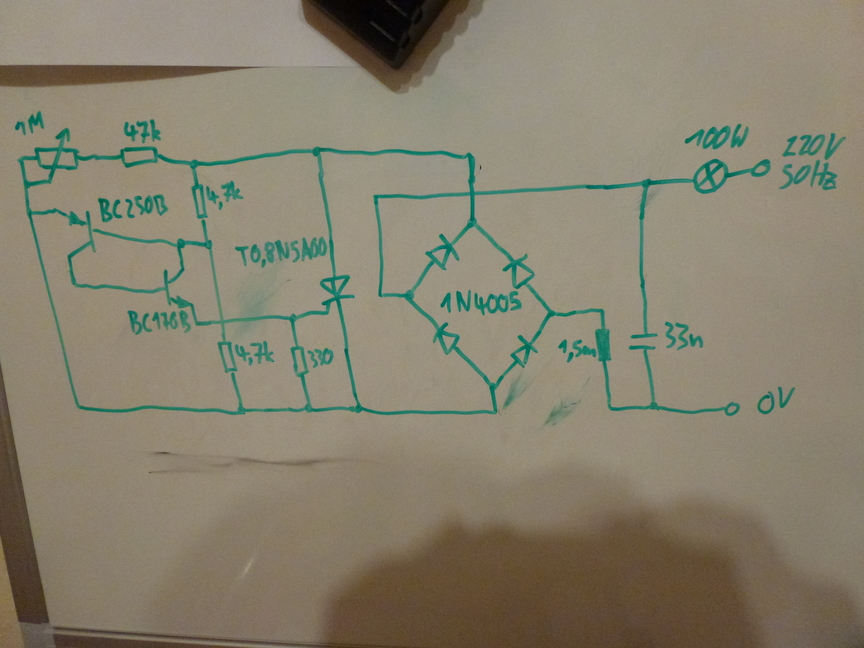capacitor.unpolarized: (625, 325, 660, 359)
crossover: (461, 186, 483, 202), (214, 315, 234, 329)
diode: (497, 250, 537, 290), (423, 232, 462, 273), (429, 318, 464, 358), (506, 333, 540, 370)
inductor: (592, 323, 616, 367)
junction: (483, 378, 503, 395), (462, 214, 481, 231), (348, 401, 368, 417), (401, 287, 418, 304), (540, 306, 559, 321), (310, 143, 326, 160), (637, 175, 653, 192), (645, 398, 661, 415), (299, 401, 317, 416), (368, 189, 385, 204), (171, 236, 189, 250), (233, 403, 251, 417), (199, 238, 218, 250), (70, 400, 86, 414), (463, 149, 478, 163), (285, 311, 300, 325), (186, 157, 201, 171), (67, 277, 82, 291), (488, 404, 501, 419), (595, 304, 609, 317), (373, 288, 386, 300), (20, 178, 32, 191), (604, 401, 616, 414), (14, 154, 27, 165), (23, 208, 37, 218), (192, 316, 202, 330)
lamp: (688, 156, 734, 197)
resistor: (115, 143, 166, 172), (214, 334, 242, 378), (188, 180, 211, 224), (287, 342, 310, 382)
resistor.adjustable: (33, 126, 82, 187)
terminal: (748, 157, 773, 180), (721, 399, 743, 419)
text: (233, 234, 330, 268), (436, 287, 523, 318), (95, 191, 169, 223), (777, 159, 839, 193), (681, 122, 751, 152), (782, 130, 847, 161), (125, 307, 193, 336), (661, 319, 710, 354), (755, 383, 800, 416), (233, 340, 280, 368), (556, 336, 598, 366), (206, 179, 244, 211), (120, 117, 163, 144), (11, 110, 48, 136), (307, 345, 339, 371)
thyristor: (316, 271, 358, 318)
transistor: (50, 205, 104, 260), (159, 263, 201, 308)
